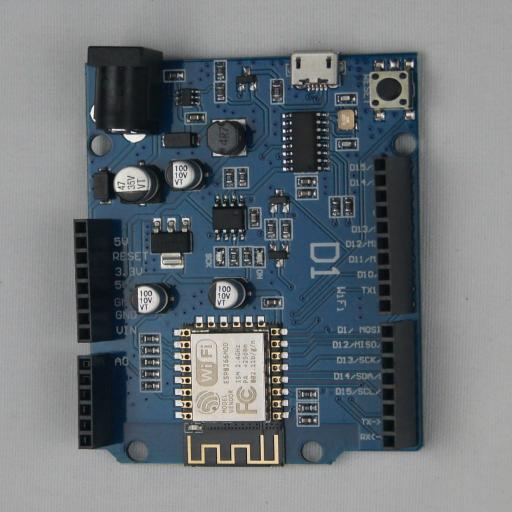Arduino Uno WiFi Shield: (74, 46, 431, 467)
